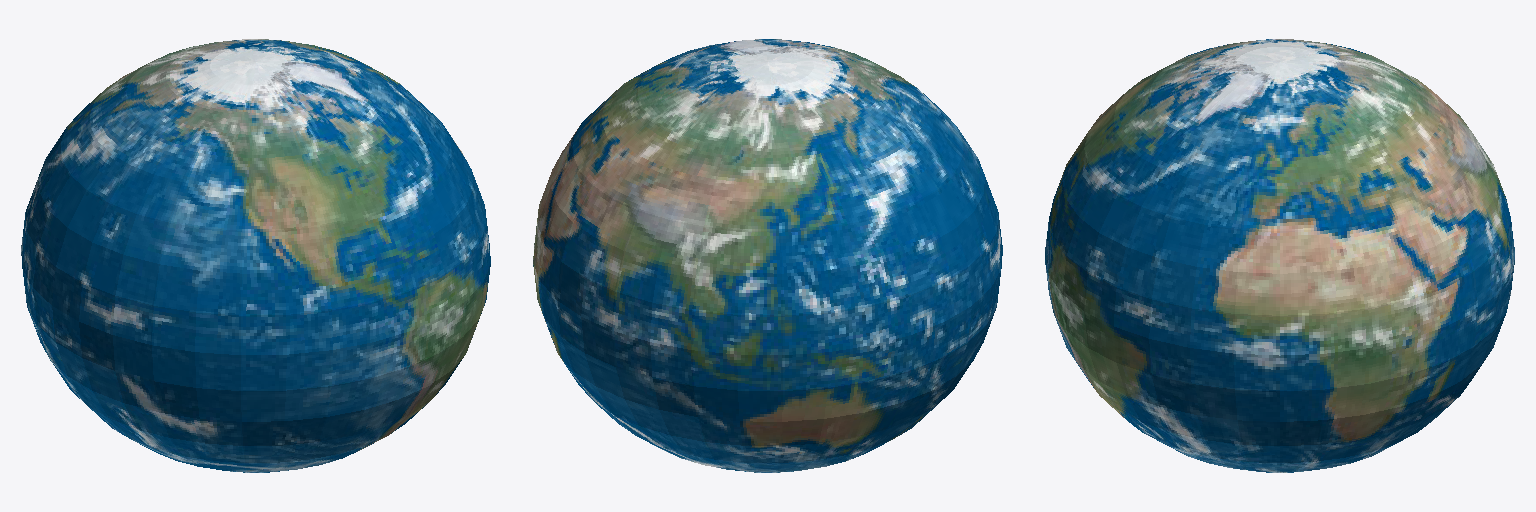
The picture shows the model from 3 angles: view 1: azimuth 30°, elevation 25°; view 2: azimuth 150°, elevation 25°; view 3: azimuth 270°, elevation 25°; orthographic projection.
Parts seen in each view (by area): view 1: Sphere; view 2: Sphere; view 3: Sphere.
Part boxes in pixels (bbox=[...]): Sphere: bbox=[21, 39, 490, 472]; Sphere: bbox=[533, 39, 1002, 472]; Sphere: bbox=[1045, 39, 1514, 472].
Bounding box in the file's own units: 5.22 × 4.74 × 5.22.
1 materials, 1 textured.